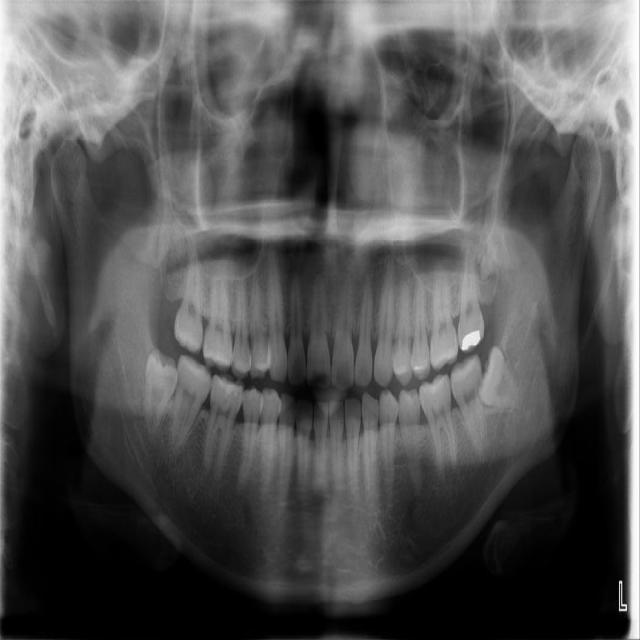52: (457, 306, 485, 354), (412, 340, 430, 380)
73: (583, 560, 590, 569)
BioHorizons Implant: (455, 246, 492, 354)
Biomet 3i Implant: (479, 346, 520, 411)
Blue Sky Bio Implant: (449, 353, 489, 457)
Caries: (173, 241, 203, 353)
Implant: (169, 354, 215, 461)
Keystone Dental Implant: (139, 349, 180, 444)
